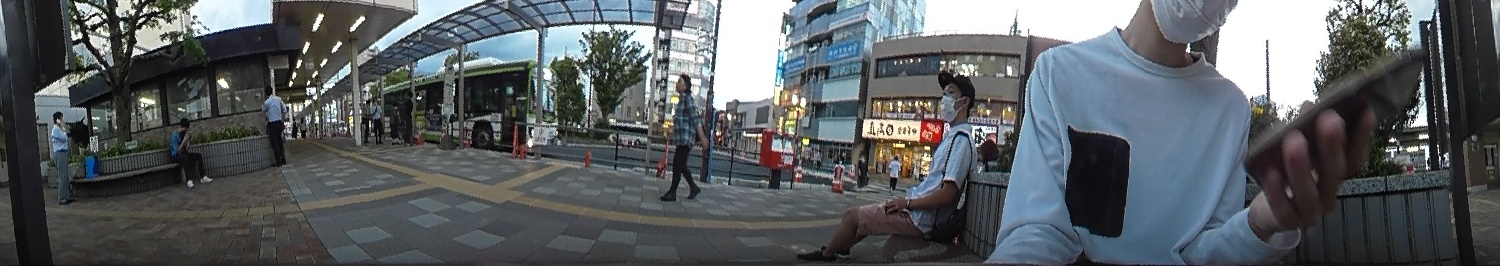difficult_person: (401, 89, 417, 140), (370, 96, 384, 148), (853, 150, 872, 186), (387, 100, 401, 142), (361, 97, 372, 144), (887, 154, 900, 190), (296, 112, 308, 138)
person: (798, 71, 982, 261), (659, 72, 706, 201), (164, 117, 214, 192), (48, 108, 78, 206), (262, 84, 289, 165)
